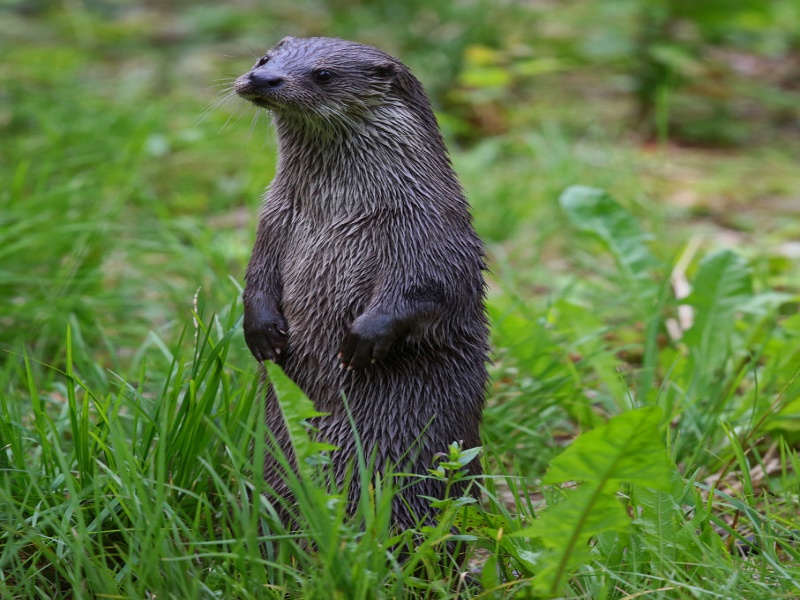minkish: (226, 28, 496, 552)
